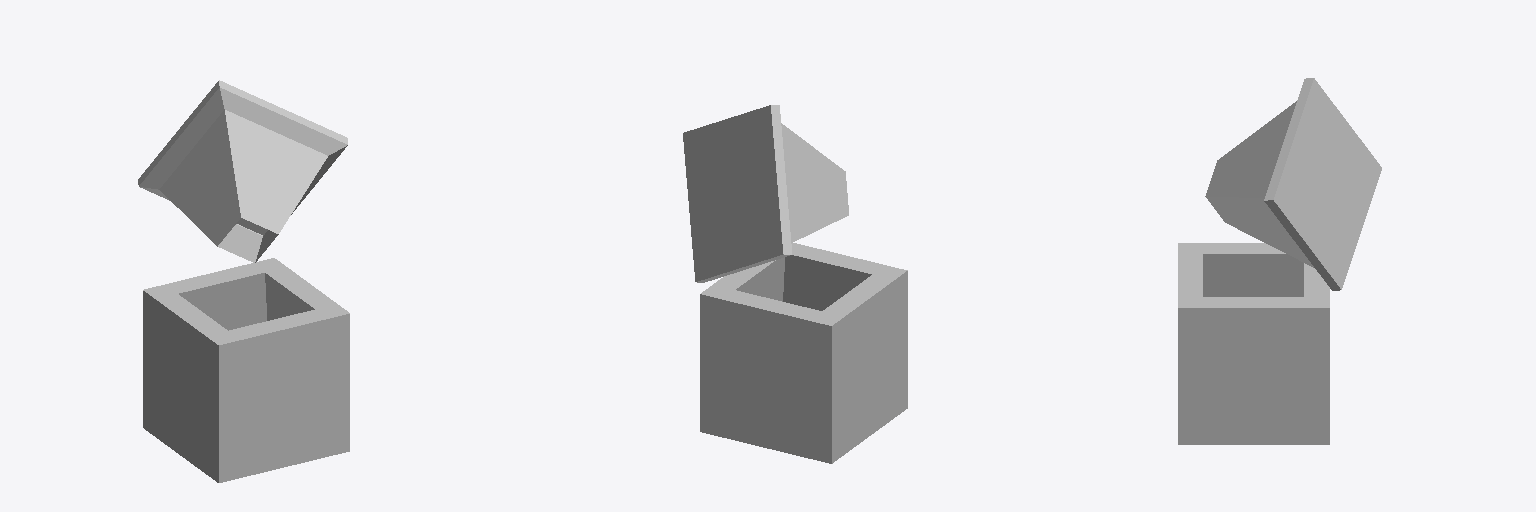
File: AnimatedBox_000052.obj
3 views of the same model, side by side, from view 1: azimuth 30°, elevation 25°; view 2: azimuth 150°, elevation 25°; view 3: azimuth 270°, elevation 25° (orthographic).
Parts seen in each view (by area): view 1: Cube, Cube.001; view 2: Cube, Cube.001; view 3: Cube, Cube.001.
Boxes of the visible parts, <box> form: Cube: <box>143,258,349,482</box>; Cube.001: <box>138,80,347,262</box>; Cube: <box>700,243,907,463</box>; Cube.001: <box>683,105,848,282</box>; Cube: <box>1178,243,1329,444</box>; Cube.001: <box>1205,78,1381,290</box>.
Size of the model in its own units: 2.69 by 4.88 by 2.69.